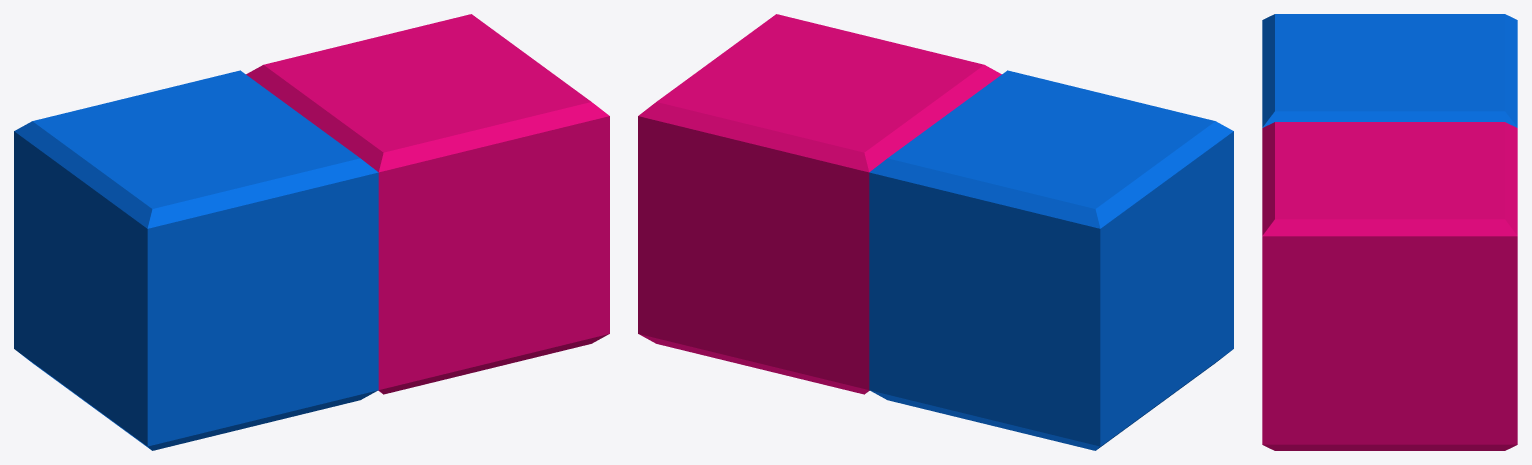
3 renders of one model, left to right at view 1: azimuth 30°, elevation 25°; view 2: azimuth 150°, elevation 25°; view 3: azimuth 270°, elevation 25°, orthographic. The views are drawn at different scales.
Visible parts, largest first — view 1: pCube3; view 2: pCube3; view 3: pCube3.
Boxes of the visible parts, box(x1,y1,x2,y2) form: pCube3: box(14, 14, 609, 450); pCube3: box(638, 14, 1233, 450); pCube3: box(1262, 14, 1517, 450).
Bounding box in the file's own units: 2 × 1 × 1.
